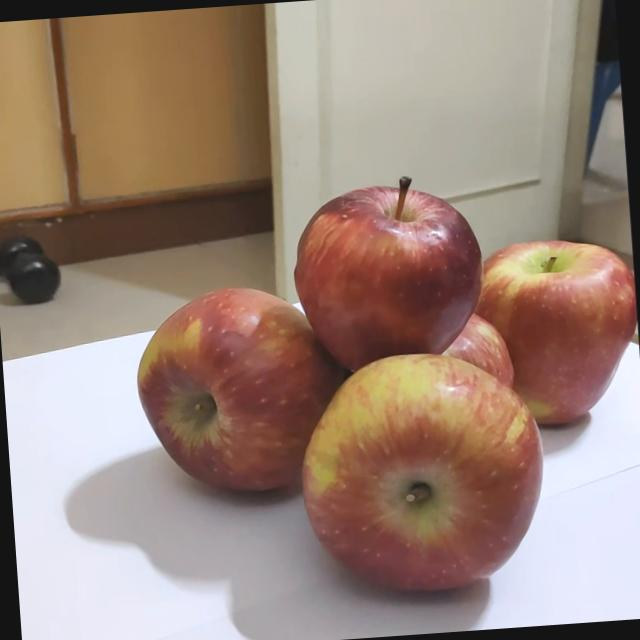apple: (322, 324, 584, 584), (131, 266, 366, 504), (296, 158, 512, 362), (470, 216, 622, 402)
